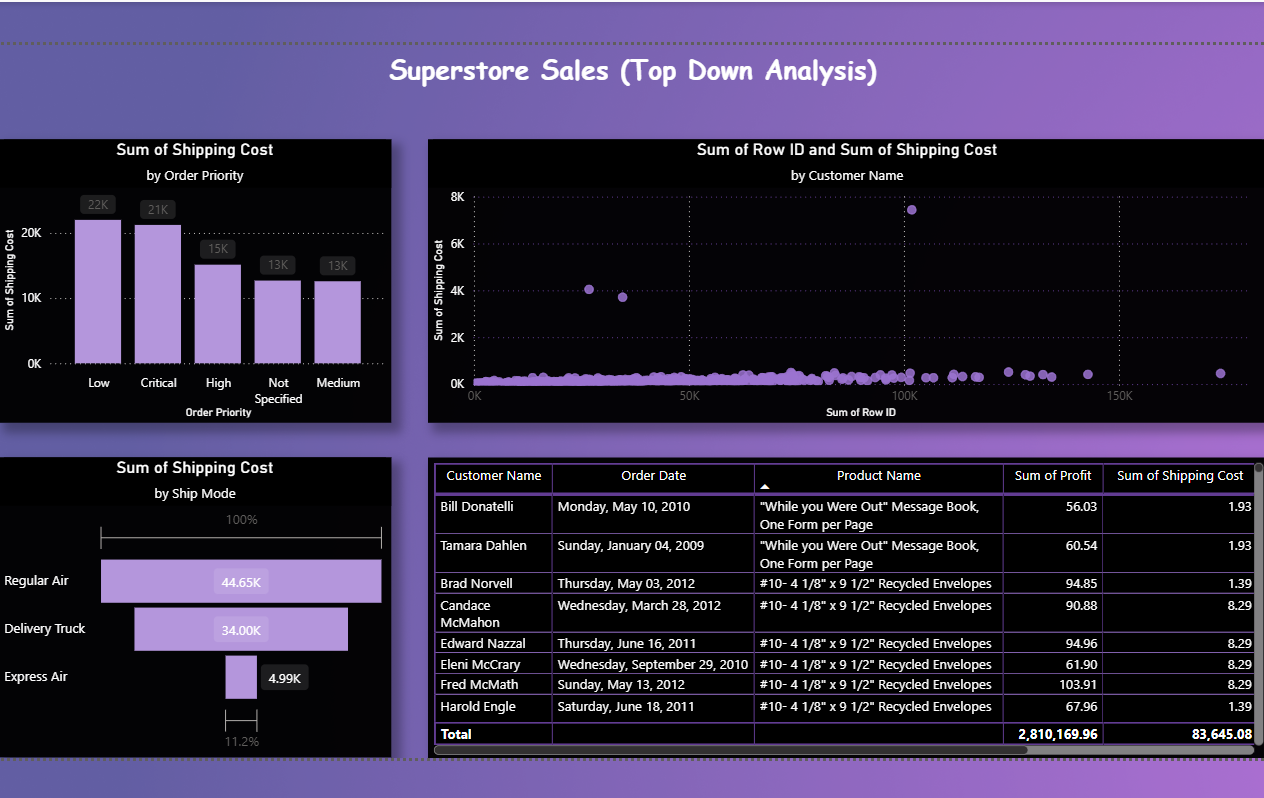

What the dashboard file says about the page in this screenshot:
{"tool":"powerbi","page":{"name":"top_down_Analysis/filtering","canvas":[1280,720],"ordinal":0},"visuals":[{"type":"columnChart","fields":{"Category":["Orders.Order Priority"],"Y":["Sum(Orders.Shipping Cost)"]},"box":[0,94.7,395.7,285.9],"z":0},{"type":"funnel","fields":{"Category":["Orders.Ship Mode"],"Y":["Sum(Orders.Shipping Cost)"]},"box":[0,416.6,395.7,303],"z":1000},{"type":"scatterChart","fields":{"Y":["Sum(Orders.Shipping Cost)"],"X":["Sum(Orders.Row ID)"],"Category":["Orders.Customer Name"]},"box":[433.6,94.7,846.4,285.9],"z":2000},{"type":"tableEx","fields":{"Values":["Orders.Customer Name","Orders.Order Date","Orders.Product Name","Sum(Orders.Profit)","Sum(Orders.Shipping Cost)","Sum(Orders.Sales)","Orders.Province","Orders.Region"]},"box":[433.6,416.6,848.3,304.9],"z":3000},{"type":"textbox","box":[75.7,0,1128.5,73.8],"z":4000}]}

Visuals, with their boxes on the page's 1280x720 design canvas (x1, y1, x2, y2). These are canvas units, not pixel positions in the 1264x798 screenshot, which may show the page scaled, cropped or inside an application window:
columnChart - Orders.Order Priority x Sum(Orders.Shipping Cost): <region>0, 95, 396, 381</region>
funnel - Orders.Ship Mode x Sum(Orders.Shipping Cost): <region>0, 417, 396, 720</region>
scatterChart - Sum(Orders.Shipping Cost) x Sum(Orders.Row ID): <region>434, 95, 1280, 381</region>
tableEx - Orders.Customer Name x Orders.Order Date: <region>434, 417, 1282, 722</region>
textbox: <region>76, 0, 1204, 74</region>
